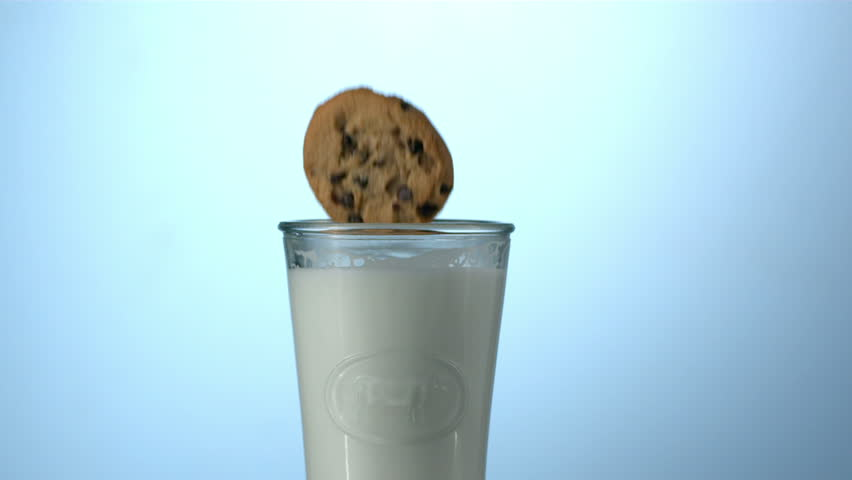glass of milk: (280, 222, 512, 480)
